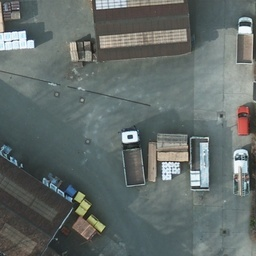car: (236, 106, 251, 135)
